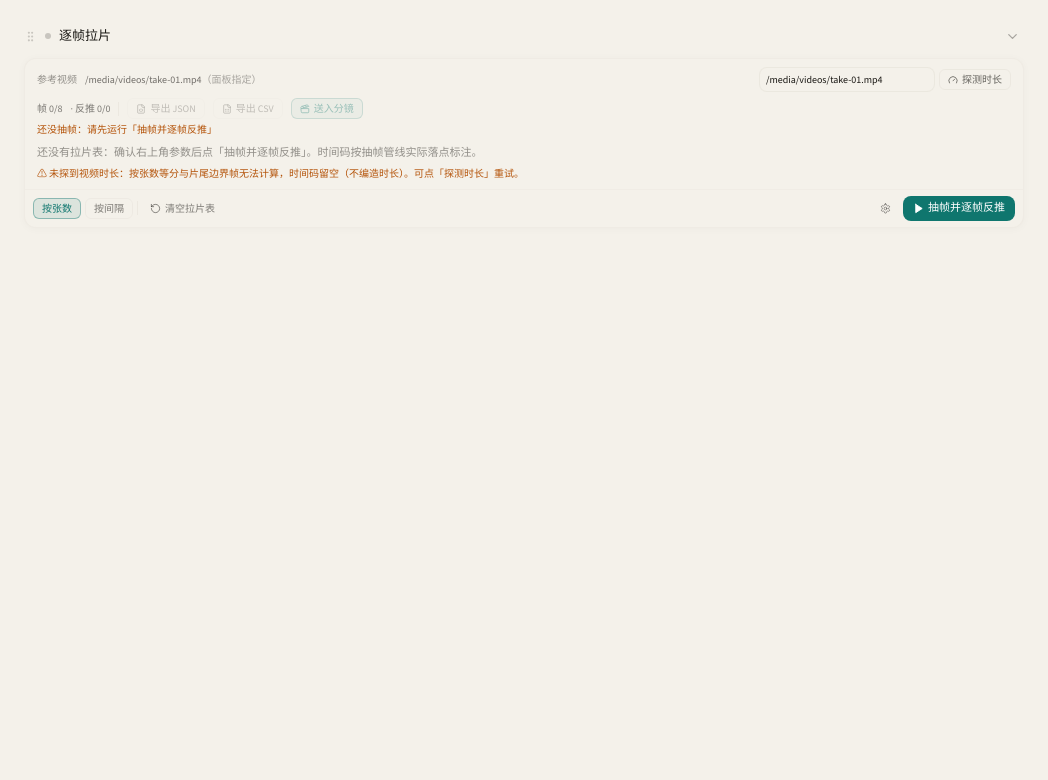
FrameStudyWorkspace：时长探测 › 探测请求抛异常：如实回落「时长未知」并带上真实错误原因，不编造时长
What coordinates should you click on to do the following:
click the button "探测时长"
I would click on:
 (975, 80)
Its box is [939,69,1011,90].
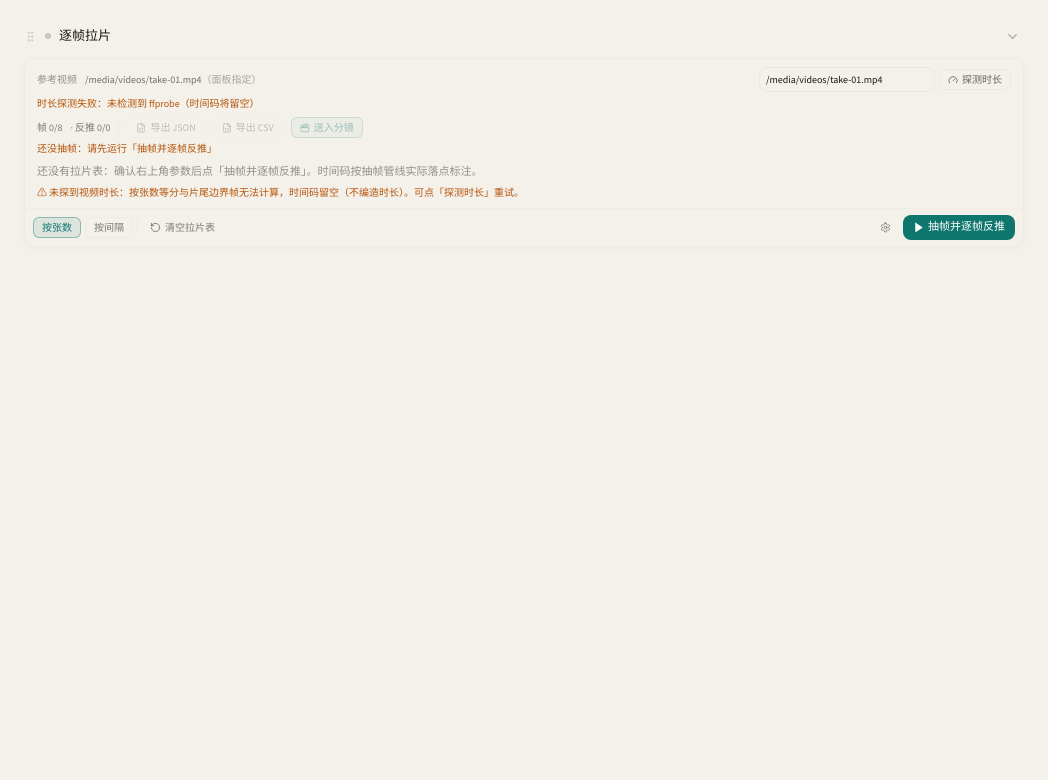
What coordinates should you click on to do the following:
click the button titled "更多设置"
I would click on:
 (886, 227)
Its box is [874,220,897,235].
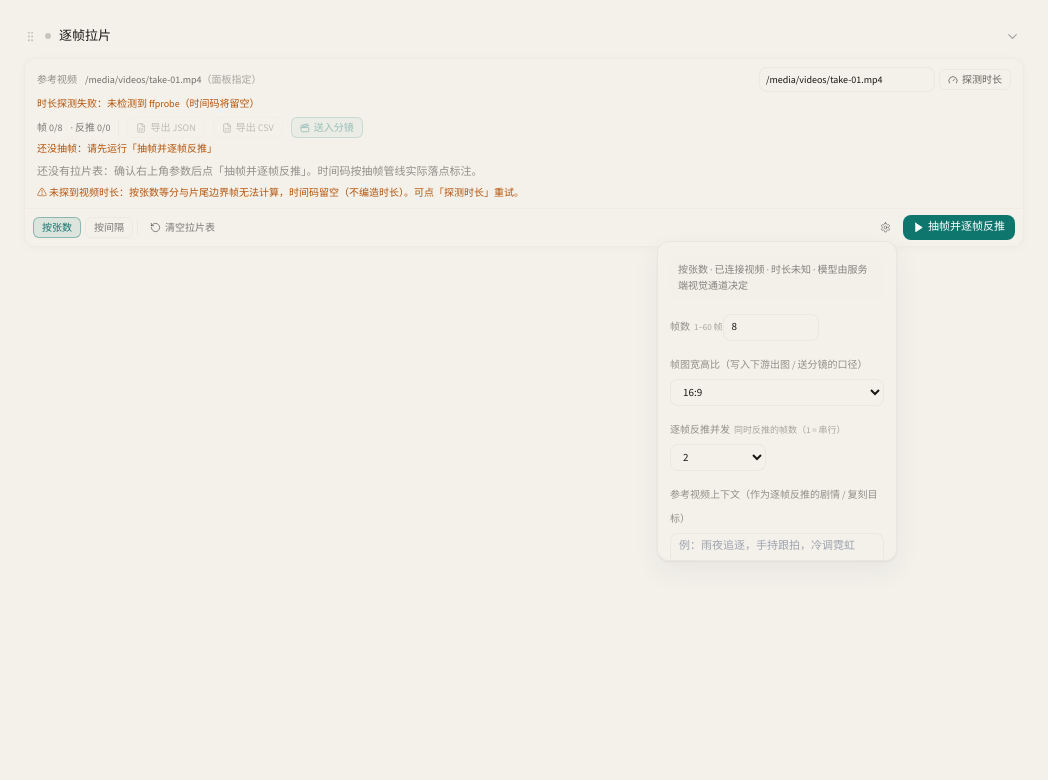
Result: the text "按张数 · 已连接视频 · 时长未知 · 模型由服务端视觉通道决定" is shown at [670,256,884,300]
